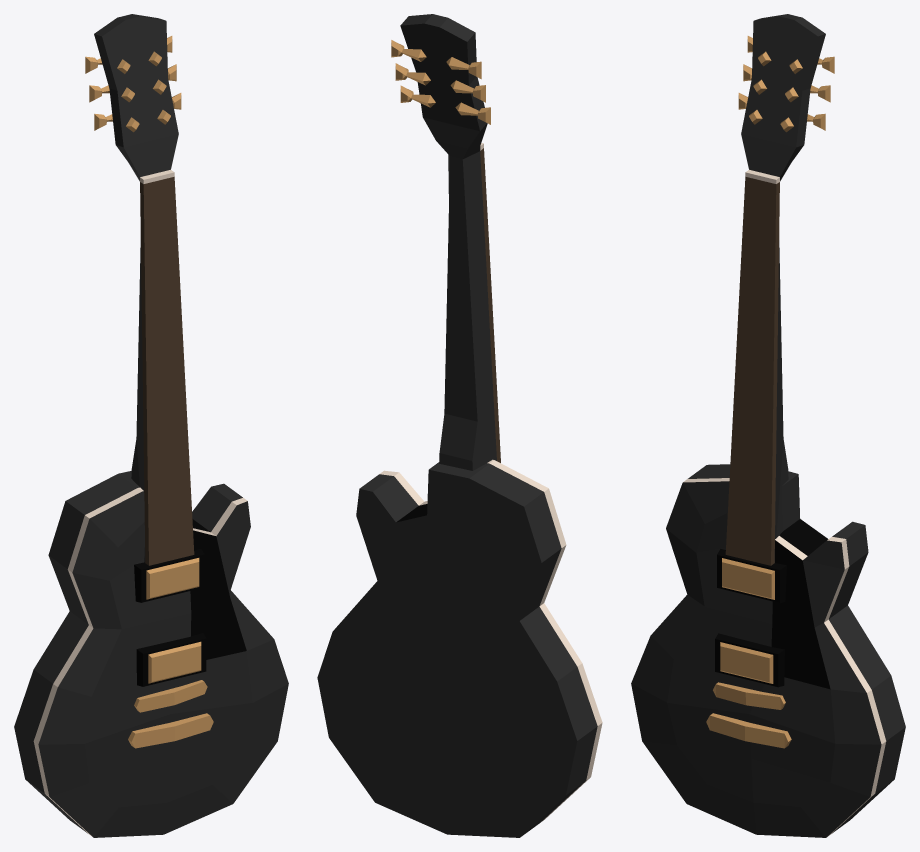
The model's file is guitar-electric-rock.glb.
3 renders of one model, left to right at view 1: azimuth 30°, elevation 25°; view 2: azimuth 150°, elevation 25°; view 3: azimuth 330°, elevation 25°, orthographic. The views are drawn at different scales.
Visible parts, largest first — view 1: guitar-electric-rock; view 2: guitar-electric-rock; view 3: guitar-electric-rock.
Boxes of the visible parts, x1,y1,x2,y2 form: guitar-electric-rock: (14,14,288,837); guitar-electric-rock: (317,14,602,837); guitar-electric-rock: (631,14,905,837).
Size of the model in its own units: 0.3399 by 1.03 by 0.1199.
1 material, 1 textured.
